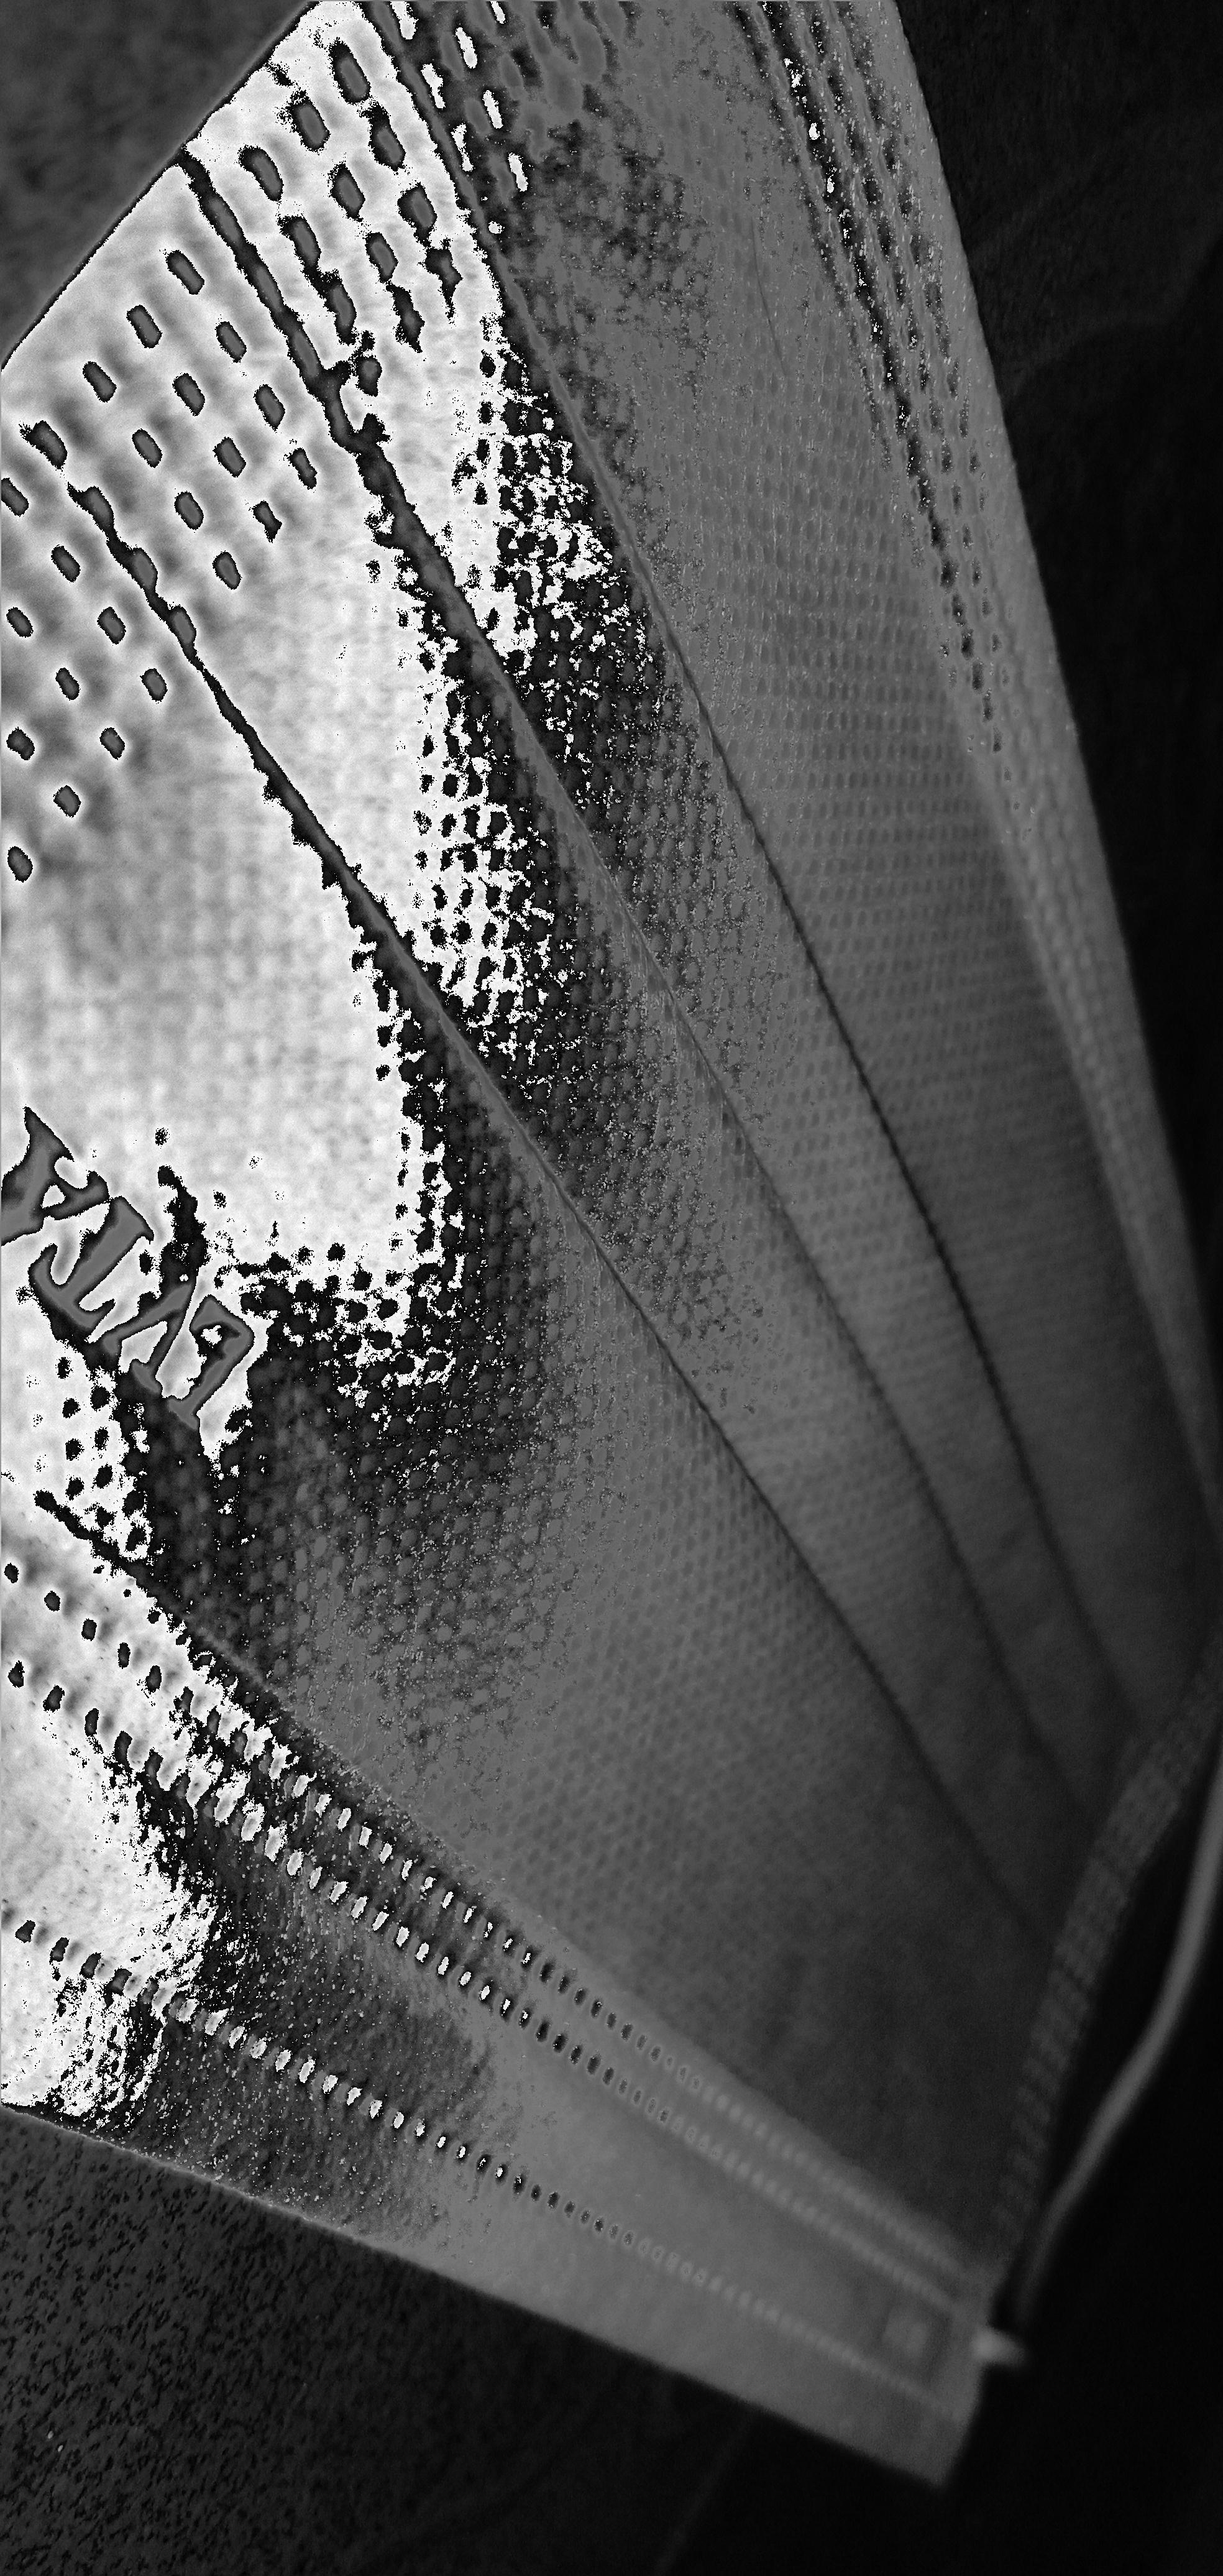High GSM: (0, 675, 921, 1541)
